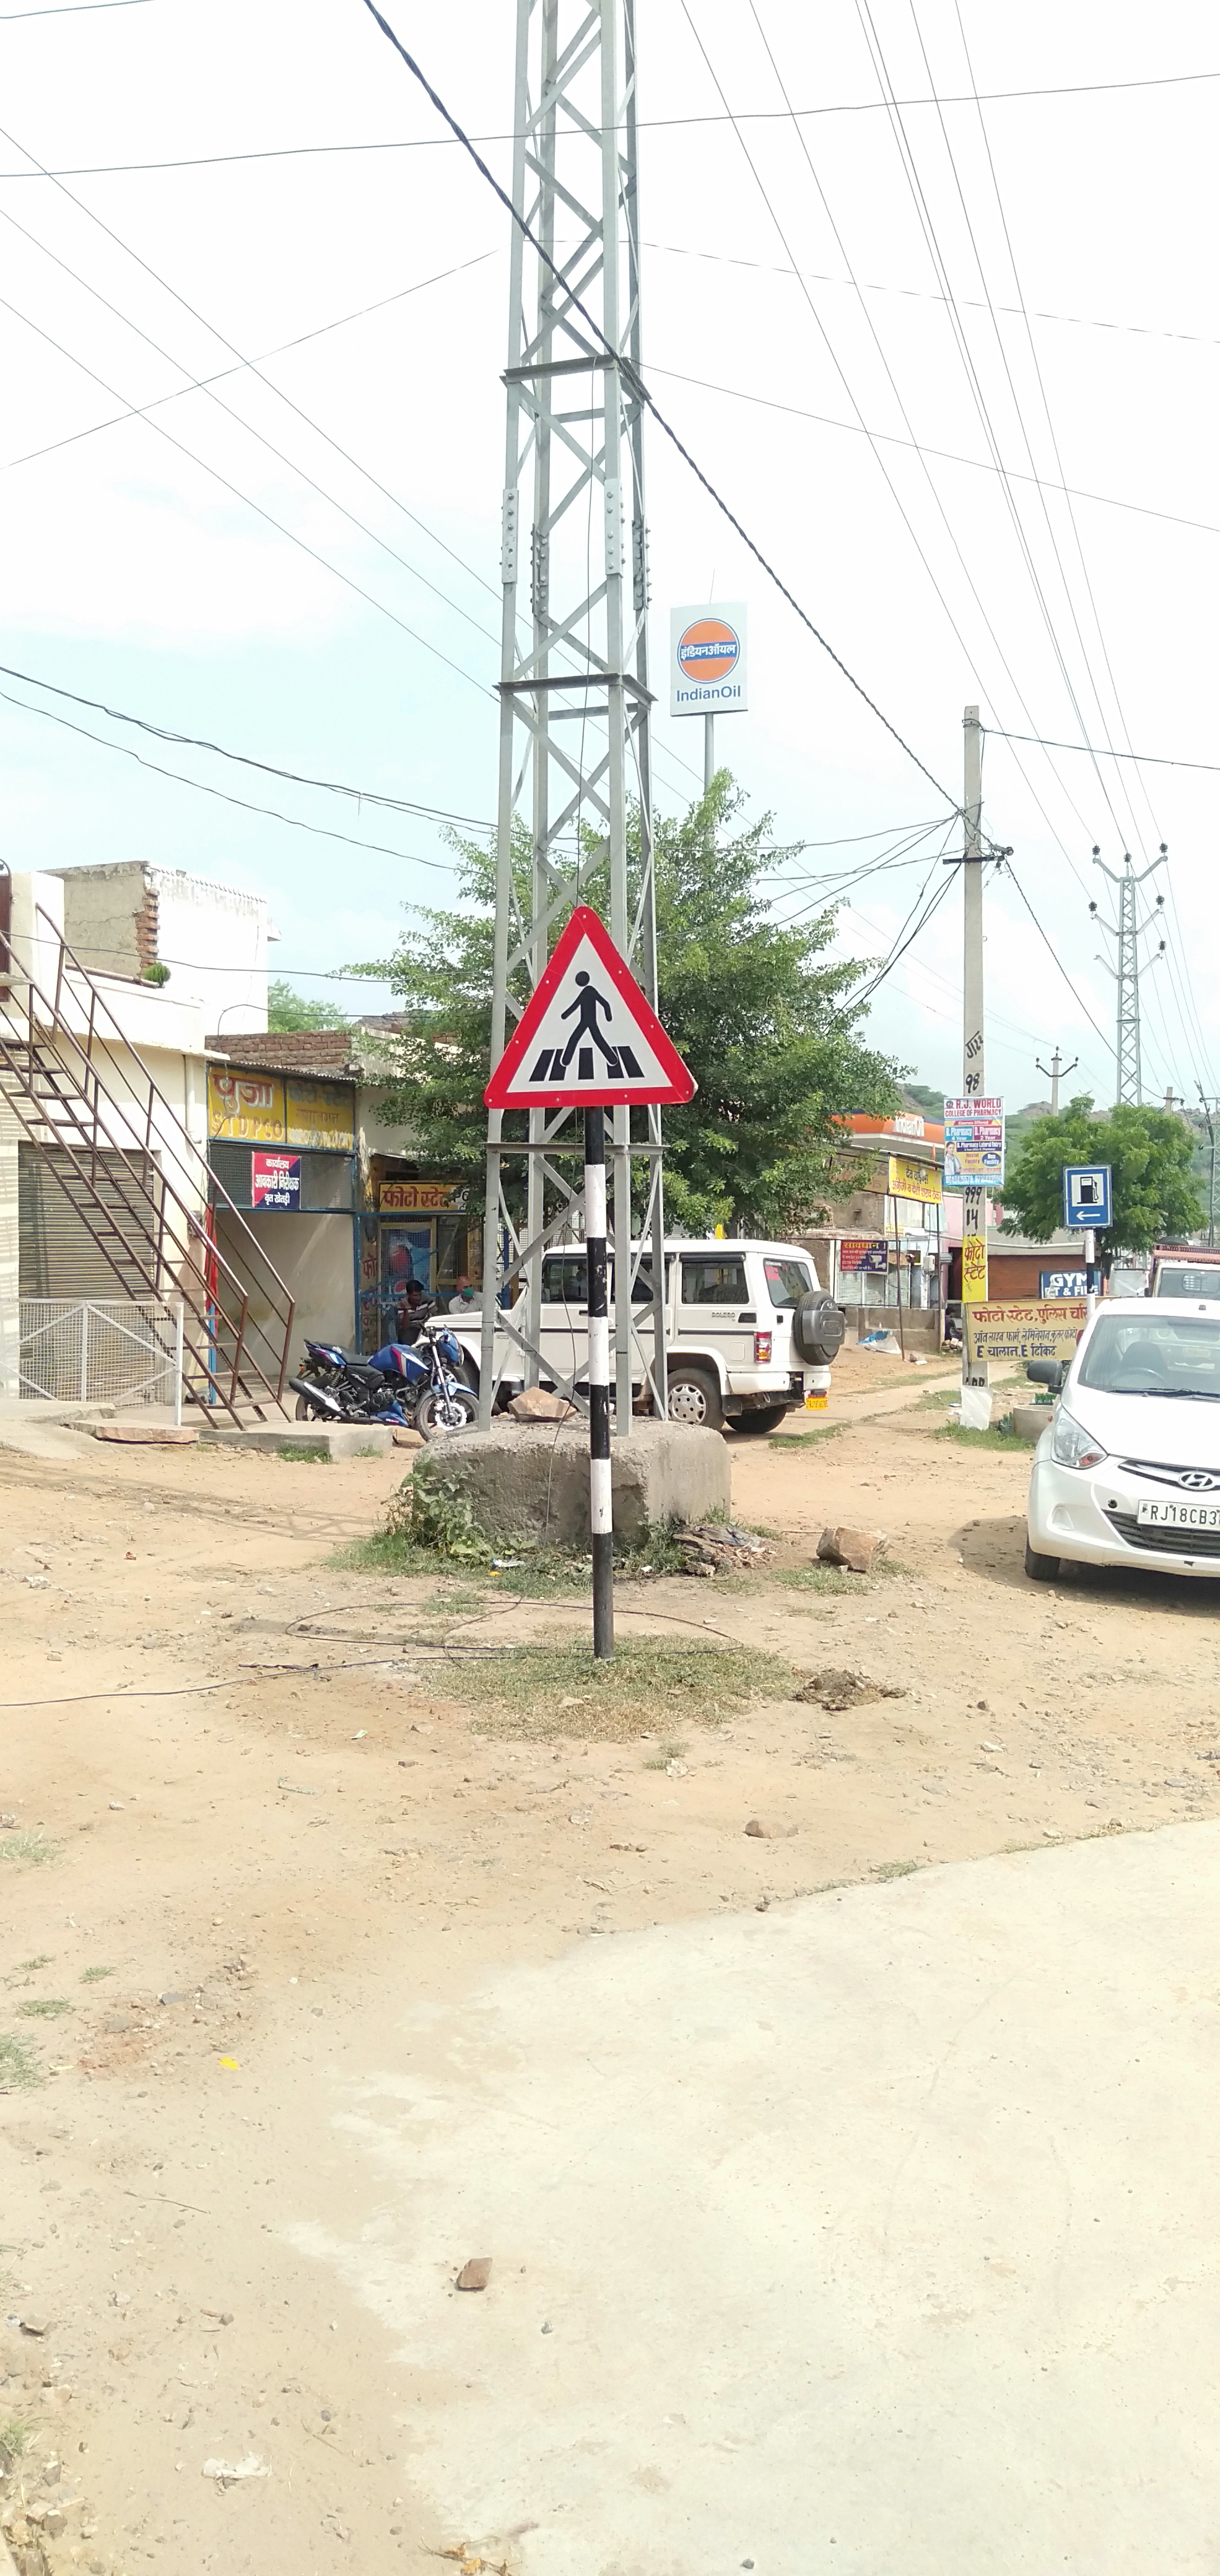traffic_sign: (481, 905, 731, 1112), (1062, 1165, 1113, 1229)
